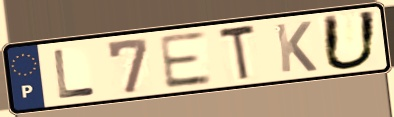7: (103, 36, 151, 95)
E: (156, 29, 215, 92)
K: (272, 19, 320, 75)
L: (51, 47, 98, 100)
T: (216, 22, 259, 85)
U: (320, 8, 380, 72)
